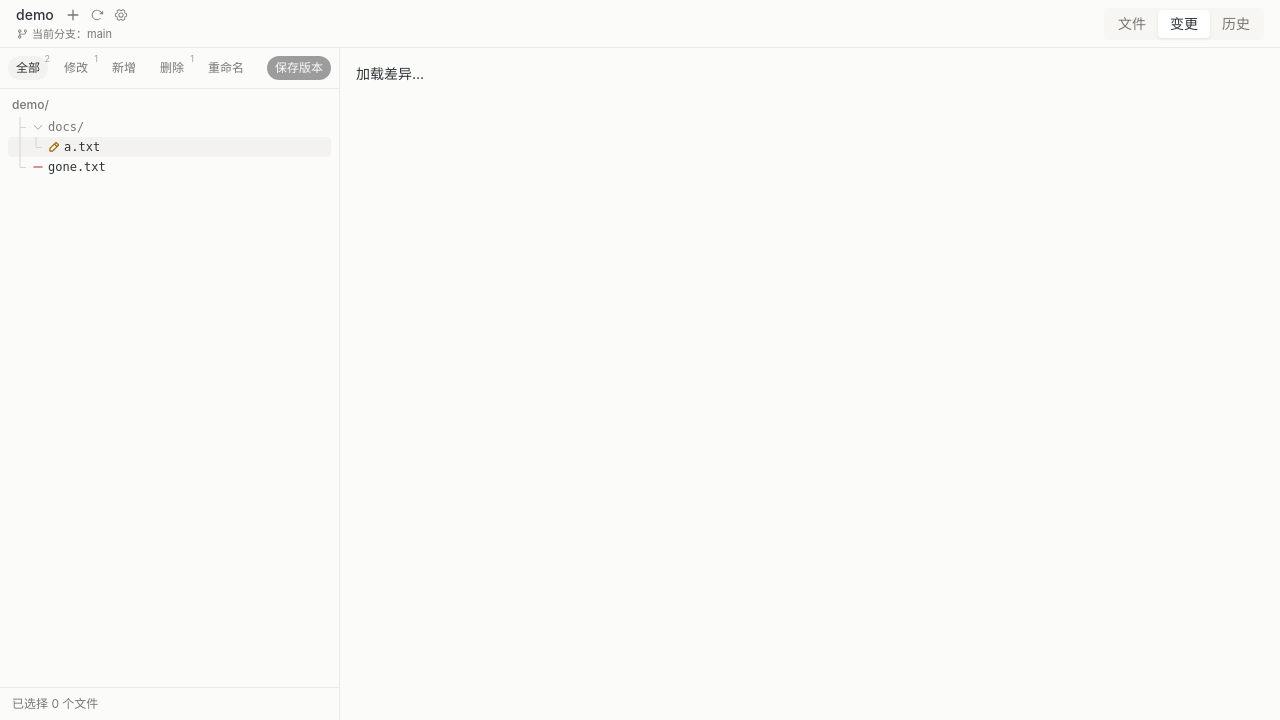
ProjectPage sidebar context menus › opens change file menu and copies path silently
Right-click the button titled "修改 · docs/a.txt": (82, 147) left=48, top=139, right=310, bottom=155
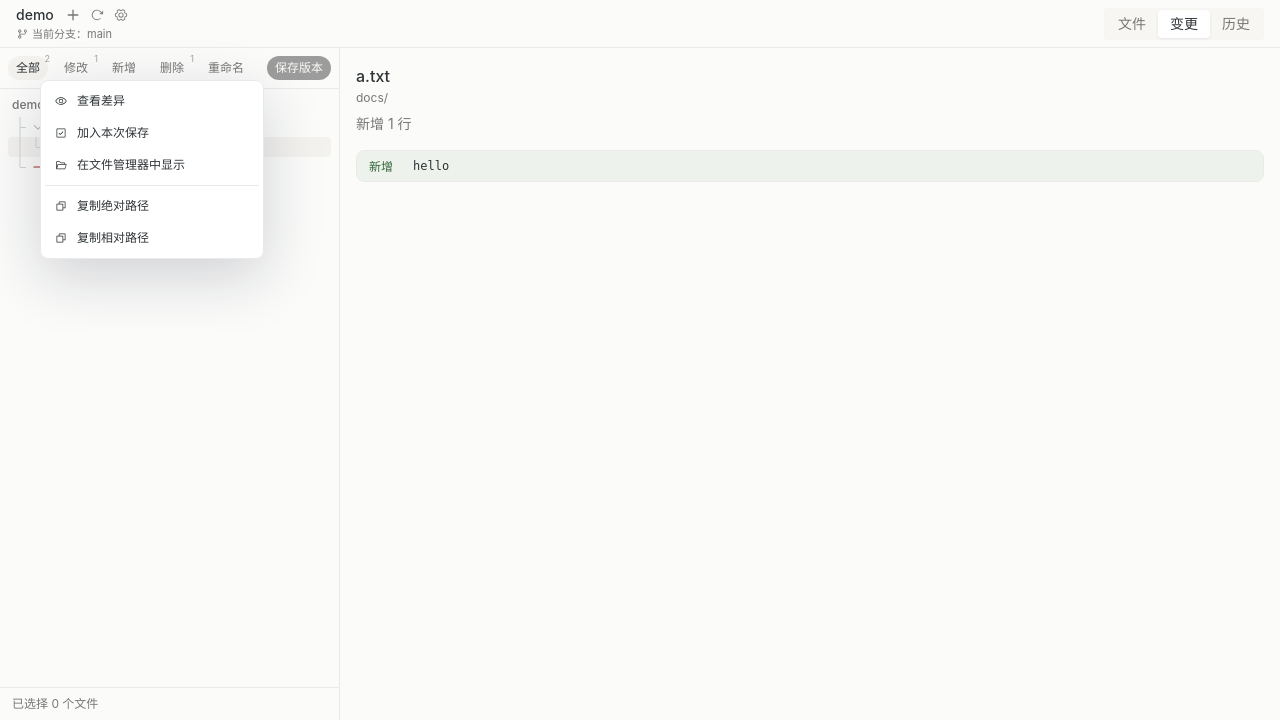
Check: the menu item "查看差异" is shown, box left=45, top=85, right=259, bottom=117
Check: the menu item "加入本次保存" is shown, box left=45, top=117, right=259, bottom=149
Check: the menu item "在文件管理器中显示" is shown, box left=45, top=149, right=259, bottom=181
Click the menu item "复制相对路径": (152, 238) left=45, top=222, right=259, bottom=254
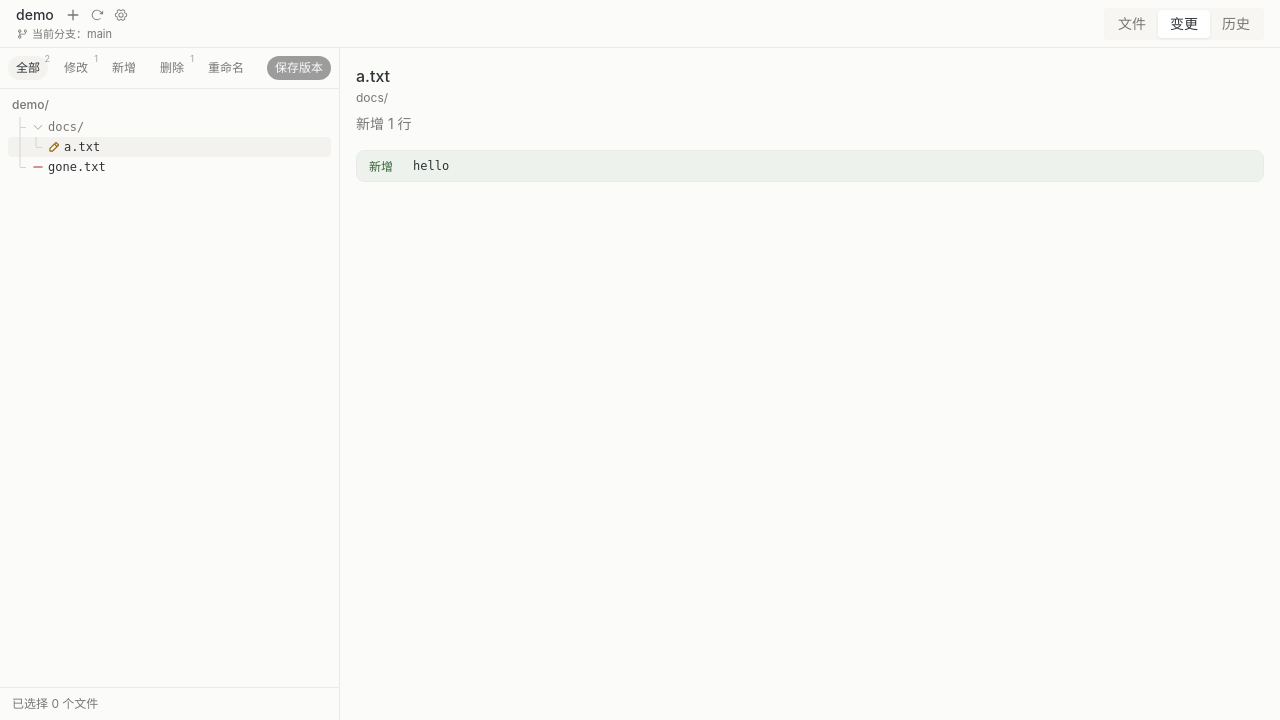
Check: the menu item "复制相对路径" is gone
